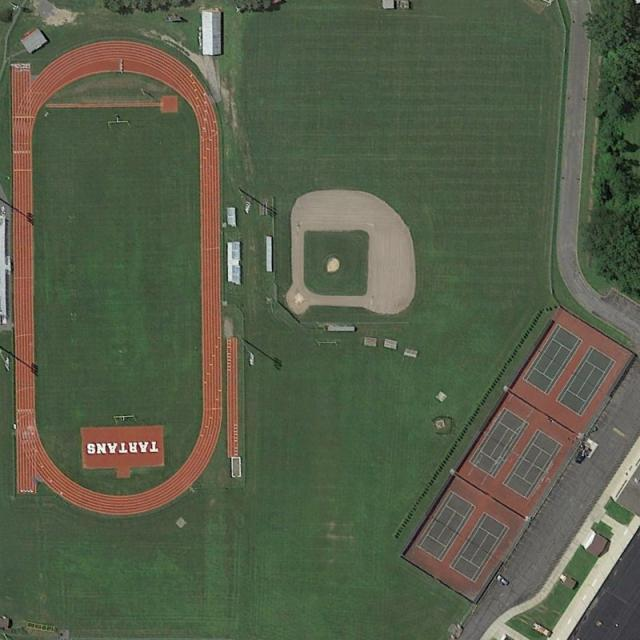vehicle: (496, 574, 508, 586)
